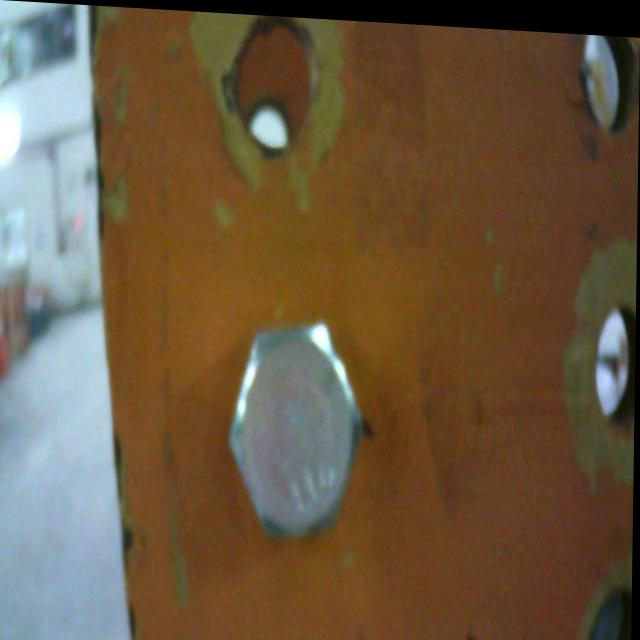Missing bolt: (232, 12, 320, 156), (590, 285, 638, 419), (583, 28, 640, 131), (586, 571, 635, 640)
Regular bolt: (226, 315, 365, 538)
